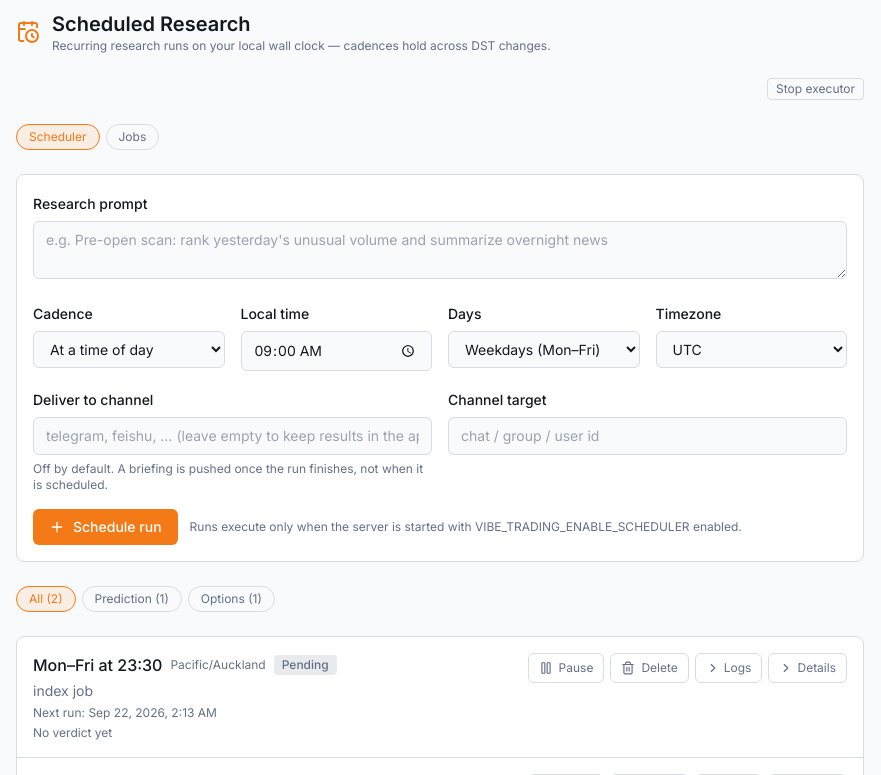
Test: section grouping › filters the list to the selected section
expect the tab "All (2)" is shown: met, box [16,586,76,612]
Click the tab "Options (1)": (231, 599) [188,586,275,612]
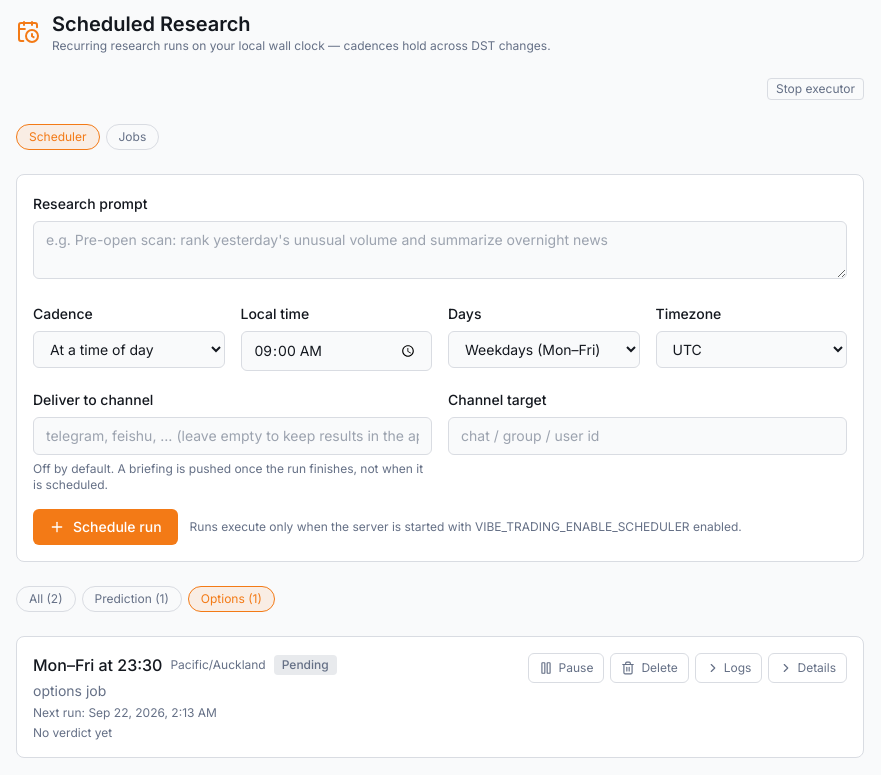
expect the text "options job" is shown: met, box [33,682,106,699]
expect the text "index job" is gone: met
